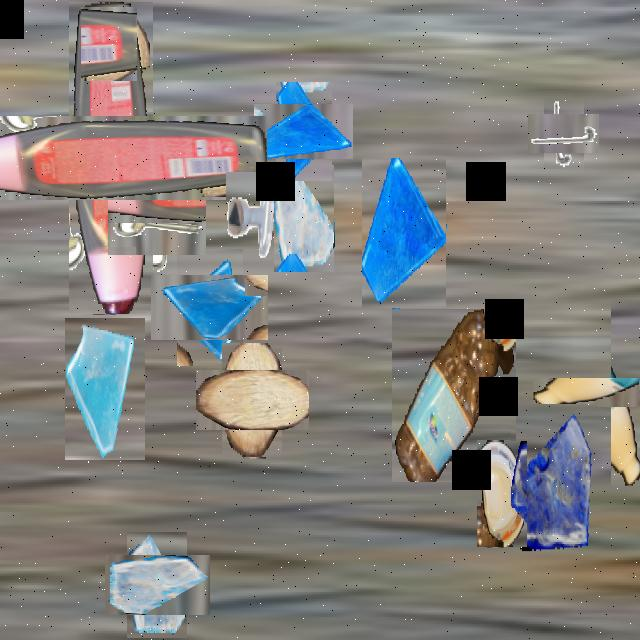glass: (511, 404, 597, 556), (362, 158, 446, 308), (65, 318, 145, 461), (164, 262, 256, 353), (115, 543, 198, 627), (274, 165, 334, 272), (265, 93, 343, 170)
metal: (118, 189, 196, 266), (226, 172, 278, 265), (536, 106, 592, 161)
plastic: (12, 59, 210, 257), (392, 310, 516, 483), (571, 339, 640, 446), (477, 441, 527, 547)
wood: (208, 356, 296, 444), (76, 12, 142, 77)
